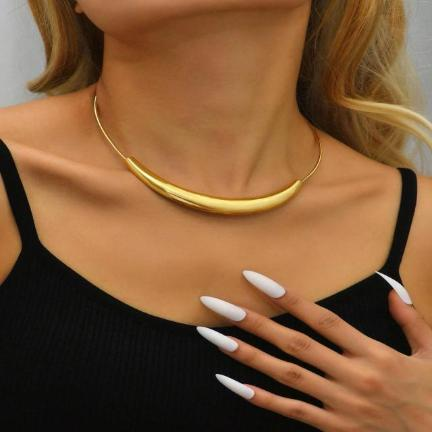Nail: (200, 295, 246, 322), (374, 272, 412, 304), (242, 270, 285, 298), (196, 326, 239, 353), (215, 374, 255, 400)
